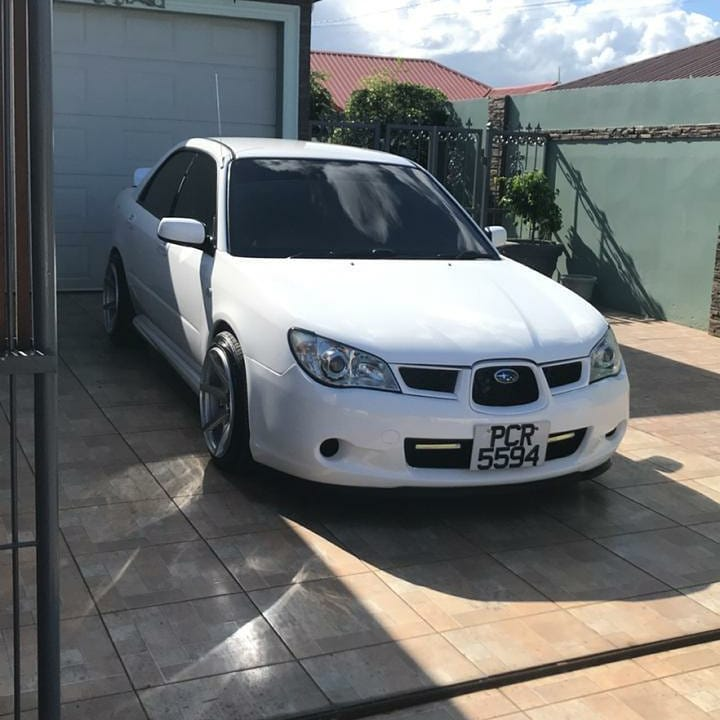License-Plate: (474, 425, 542, 471)
